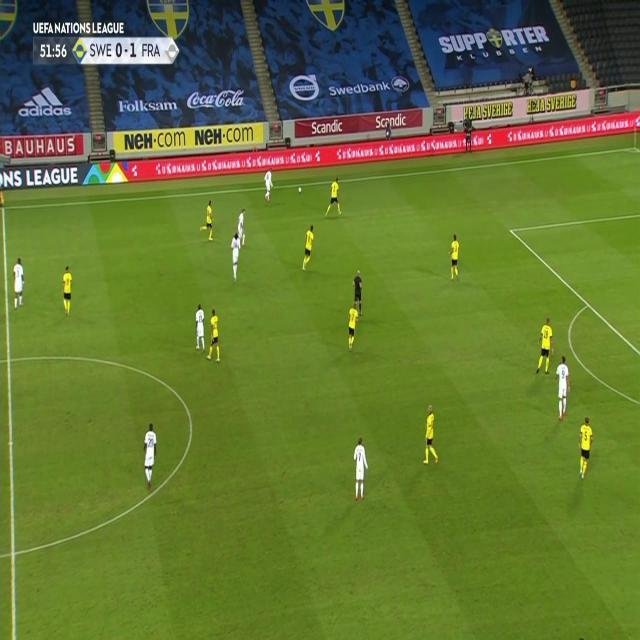ball: (298, 185, 303, 193)
player: (534, 314, 556, 376), (575, 414, 595, 481), (141, 419, 159, 491), (351, 434, 370, 502), (420, 404, 440, 466), (554, 353, 571, 421), (205, 307, 223, 363), (10, 255, 27, 309), (300, 222, 316, 271), (60, 263, 74, 317), (324, 175, 342, 217), (199, 197, 216, 240), (193, 302, 207, 351), (447, 232, 461, 281), (347, 301, 360, 352), (229, 231, 242, 281), (236, 206, 248, 247), (263, 168, 275, 202)
referee: (351, 267, 364, 314)
